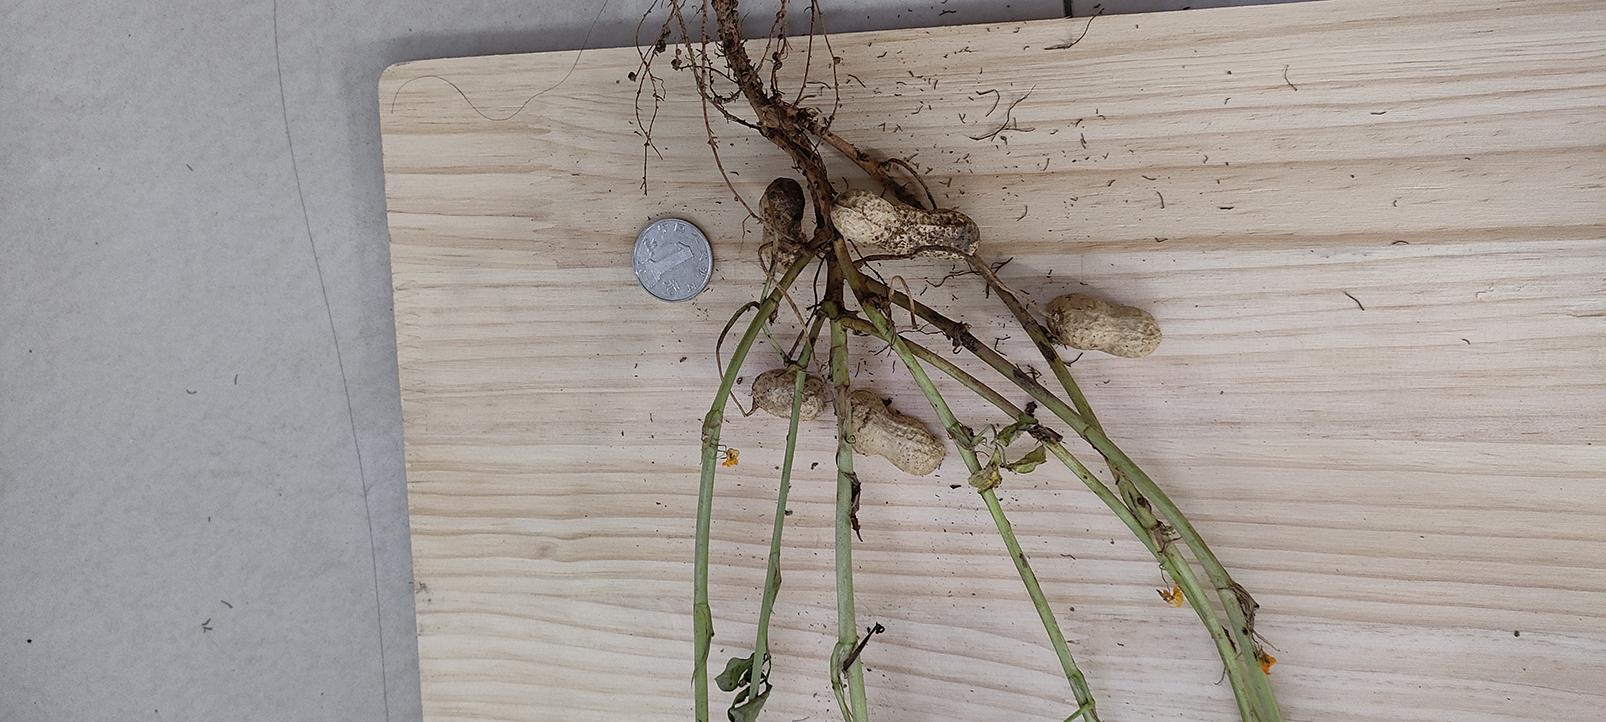h: (829, 189, 982, 259), (1045, 293, 1163, 359), (852, 392, 945, 470), (751, 368, 827, 422)
l: (758, 178, 805, 271)
